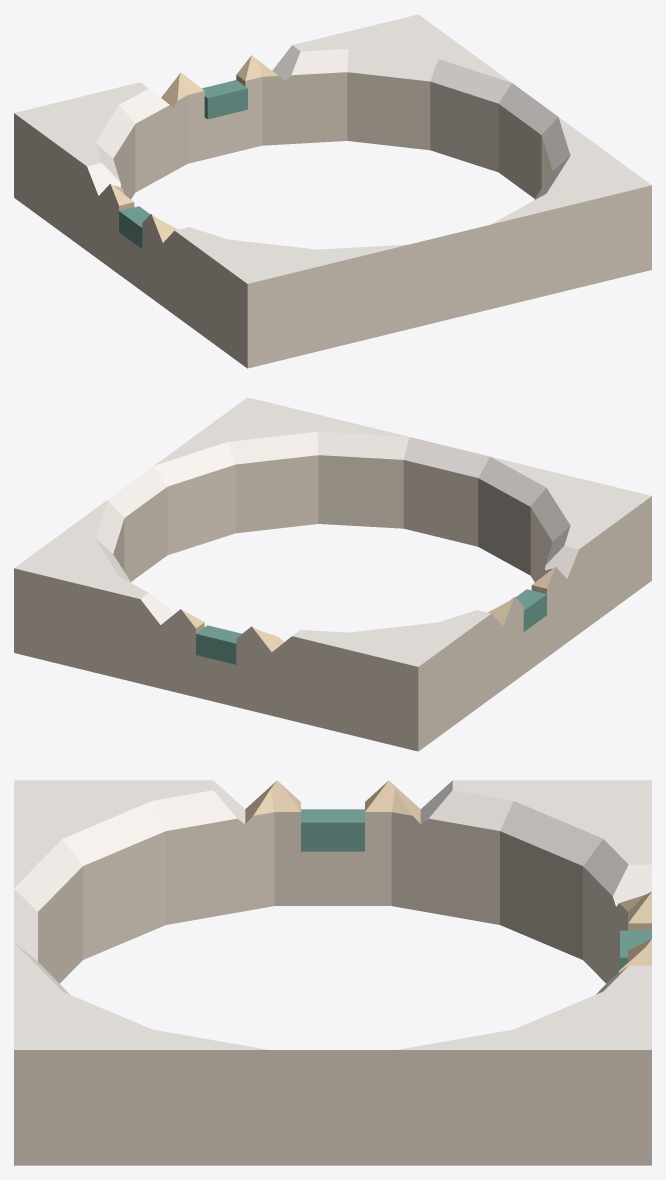
The model's file is Puzzle_Floor_Conduit_Rotating_Housing_Corner.glb.
The picture shows the model from 3 angles, top to bottom: view 1: azimuth 30°, elevation 25°; view 2: azimuth 150°, elevation 25°; view 3: azimuth 270°, elevation 25°; orthographic projection. The views are drawn at different scales.
Parts seen in each view (by area): view 1: Puzzle_Floor_Conduit_Rotating_Housing_Corner; view 2: Puzzle_Floor_Conduit_Rotating_Housing_Corner; view 3: Puzzle_Floor_Conduit_Rotating_Housing_Corner.
Part boxes in pixels (x1,y1,x2,y2): Puzzle_Floor_Conduit_Rotating_Housing_Corner: (14, 14, 651, 368); Puzzle_Floor_Conduit_Rotating_Housing_Corner: (14, 397, 651, 751); Puzzle_Floor_Conduit_Rotating_Housing_Corner: (14, 780, 651, 1165).
Bounding box in the file's own units: 1 × 0.2 × 1.
